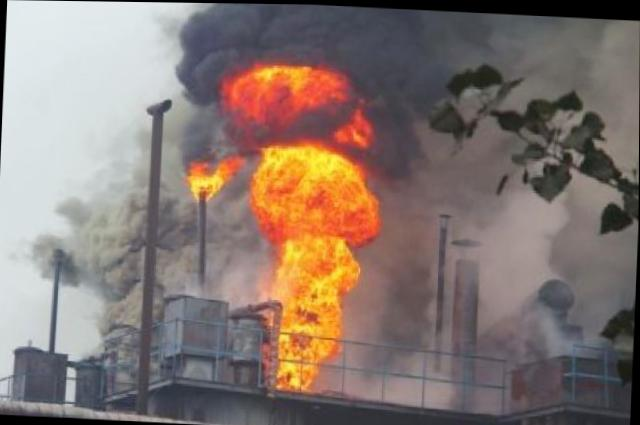fire: (256, 145, 382, 244), (235, 64, 347, 123), (278, 235, 362, 291), (281, 287, 345, 335), (280, 334, 339, 359), (279, 360, 324, 388), (193, 164, 225, 199), (338, 116, 375, 146)
